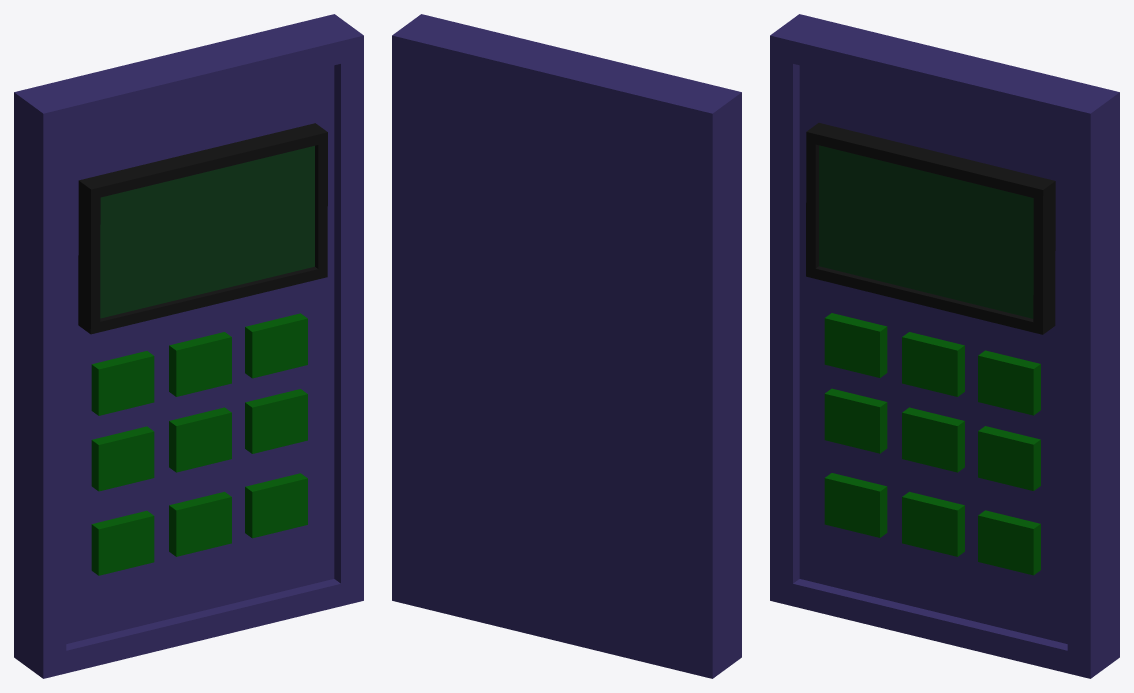
File: Key.fbx
3 renders of one model, left to right at view 1: azimuth 30°, elevation 25°; view 2: azimuth 150°, elevation 25°; view 3: azimuth 330°, elevation 25°, orthographic.
Parts seen in each view (by area): view 1: Куб.003, Куб, Куб.001, Куб.008, Куб.006, Куб.007, Куб.005, Куб.004, Куб.002; view 2: Куб.003; view 3: Куб.003, Куб, Куб.001, Куб.008, Куб.006, Куб.007, Куб.005, Куб.004, Куб.002.
Boxes of the visible parts, x1,y1,x2,y2 form: Куб.003: (14, 14, 363, 678); Куб: (100, 146, 314, 318); Куб.001: (78, 123, 327, 334); Куб.008: (91, 473, 307, 575); Куб.006: (91, 313, 307, 415); Куб.007: (91, 389, 307, 491); Куб.005: (169, 491, 231, 556); Куб.004: (169, 407, 231, 472); Куб.002: (169, 332, 231, 396); Куб.003: (392, 14, 741, 678); Куб.003: (770, 14, 1119, 678); Куб: (819, 145, 1033, 318); Куб.001: (806, 123, 1055, 334); Куб.008: (824, 473, 1040, 575); Куб.006: (824, 313, 1040, 415); Куб.007: (824, 388, 1040, 490); Куб.005: (902, 491, 964, 556); Куб.004: (902, 407, 964, 472); Куб.002: (902, 332, 964, 396).
Size of the model in its own units: 574 by 967 by 109.
